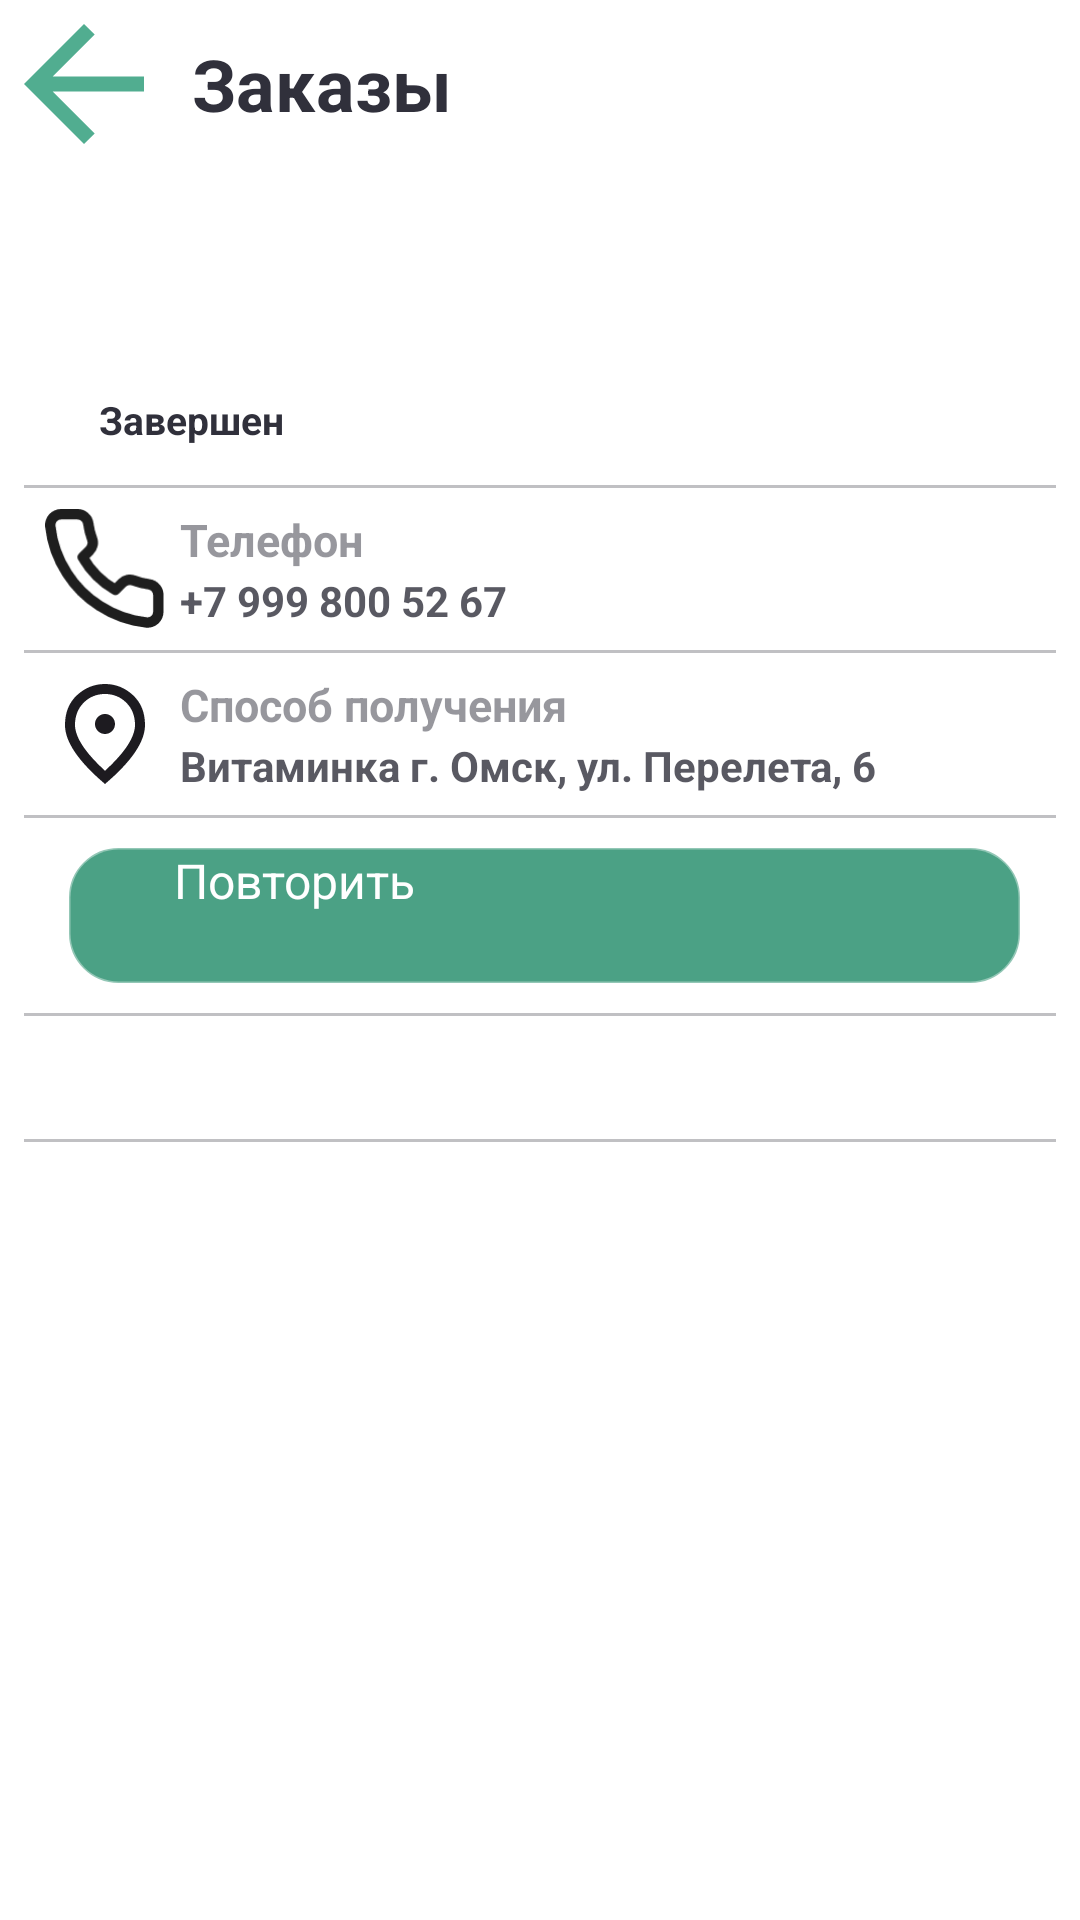

Icon click points for this 1080w x 1920h phone screenshot, format point (x, y):
arrow left: point (84, 84)
empty point: point (105, 734)
phone: point (104, 568)
